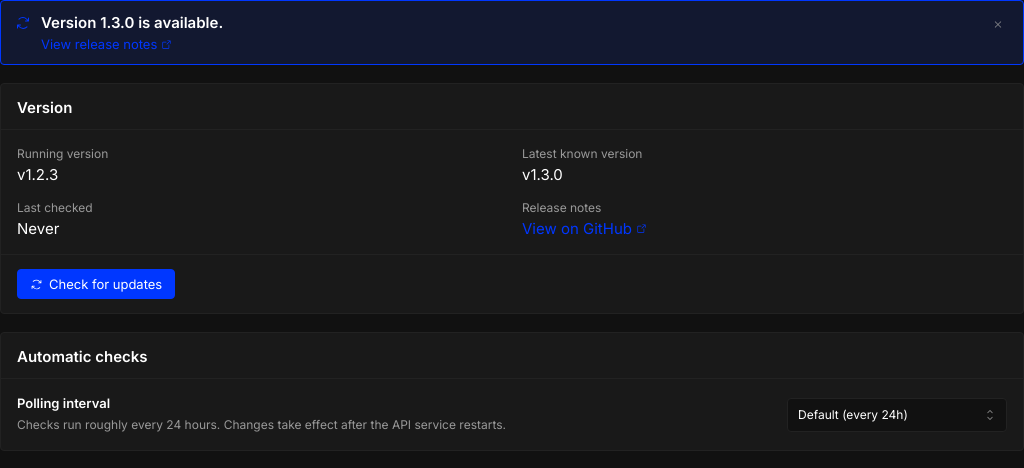
UpdatesSection › update banner › shows the banner when an update is available and not yet dismissed, and hides it after dismissal
Expected: the text "Version 1.3.0 is available." is shown, 41,13 -> 223,32
Step 1. Click the button named "Dismiss the update notice" → point(998, 24), box 987,13 -> 1009,35
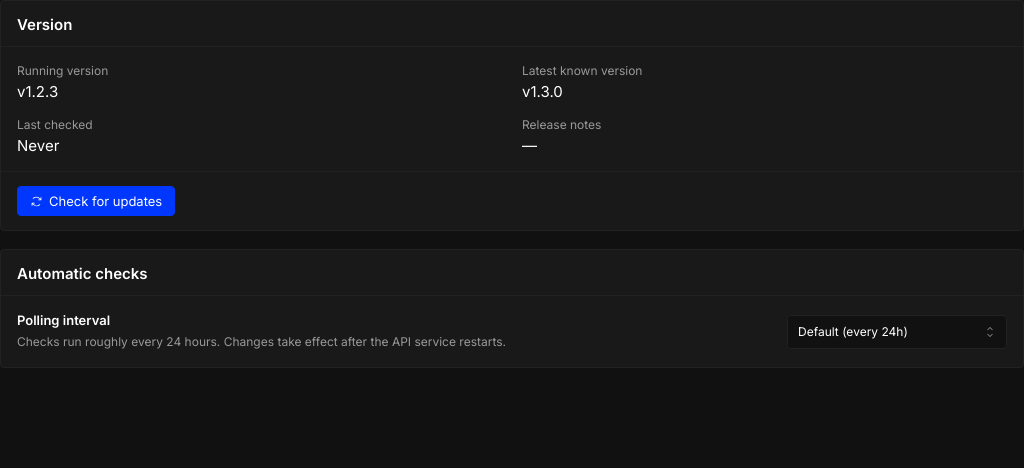
Expected: the text "Version 1.3.0 is available." is gone
